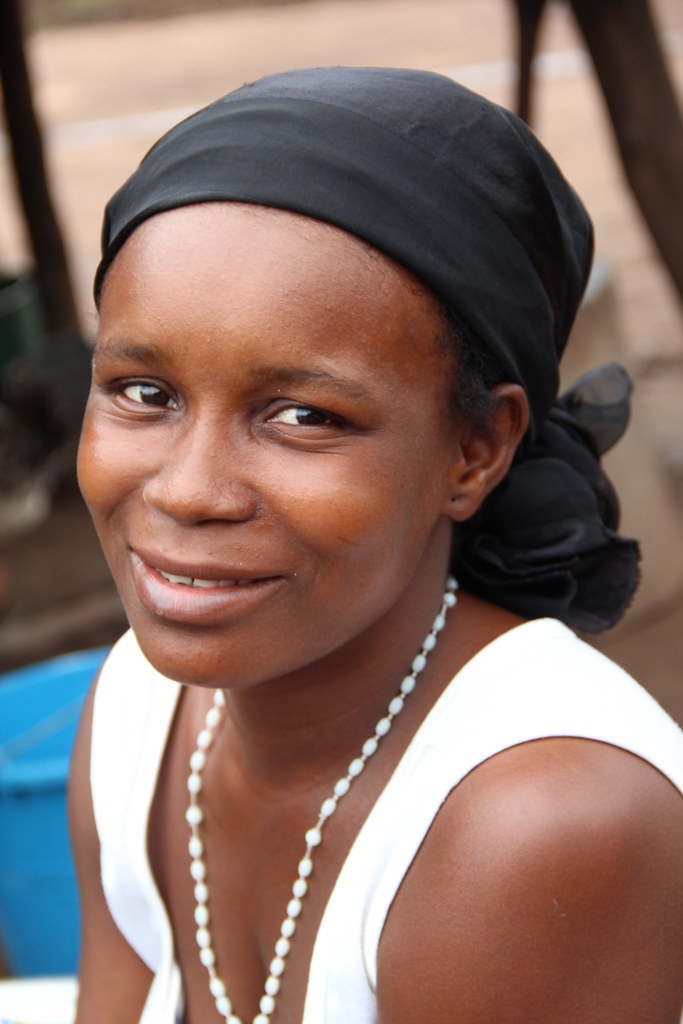without_mask: (45, 208, 549, 682)
